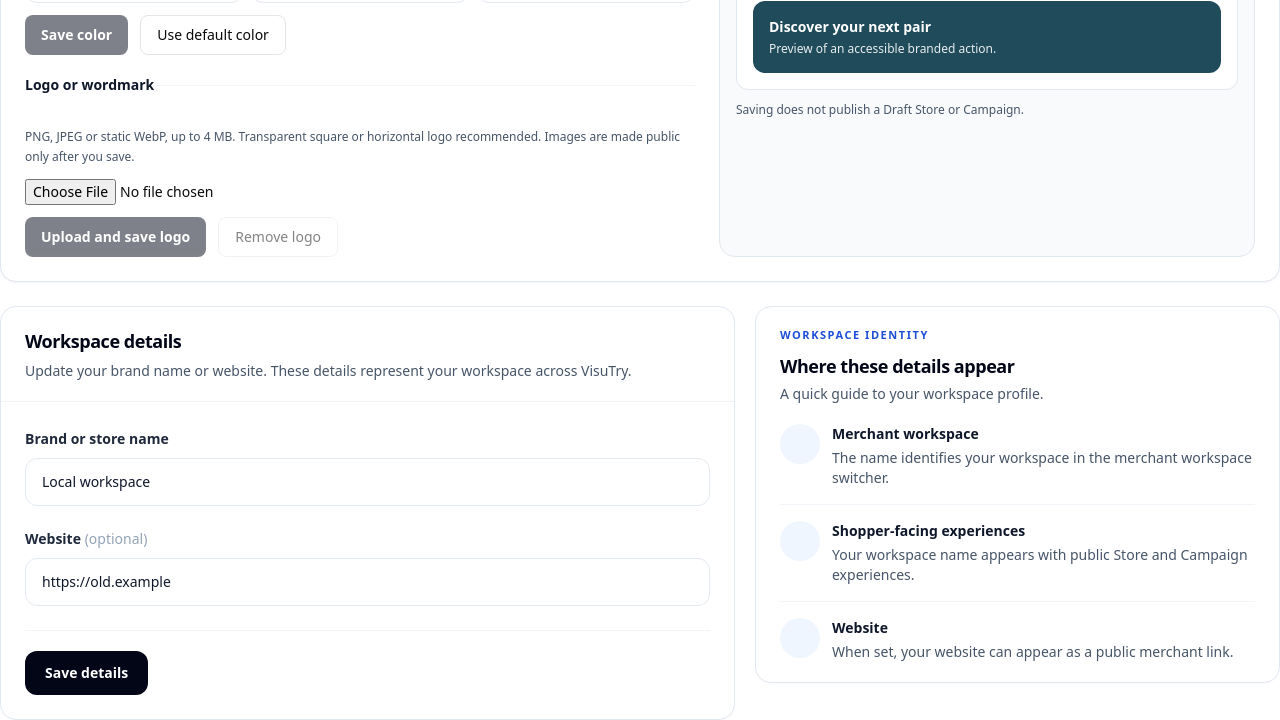
Scenario: MerchantWorkspaceSettings › sends a populated website URL unchanged
(page scrolled)
Replace the text in the field labelled "Website (optional)" with "https://new.example/path": [368, 582] box left=25, top=558, right=710, bottom=606
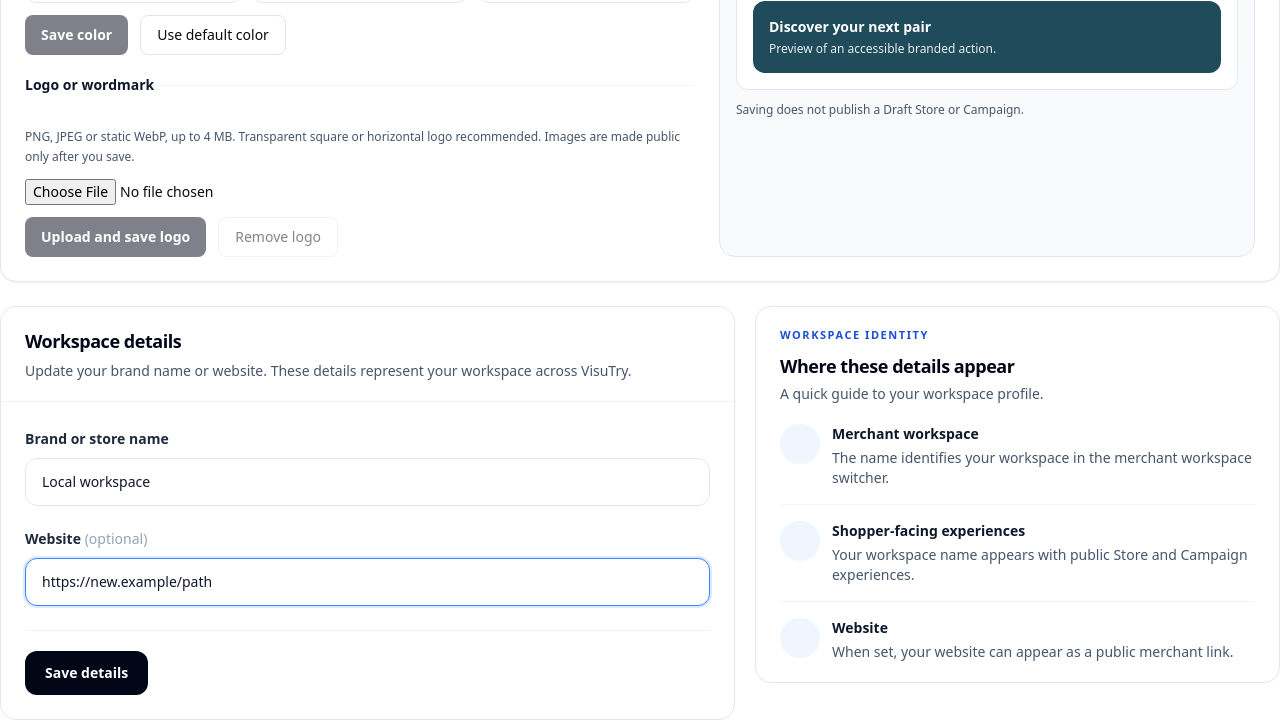
Click the button "Save details": [87, 673] box left=25, top=651, right=148, bottom=695
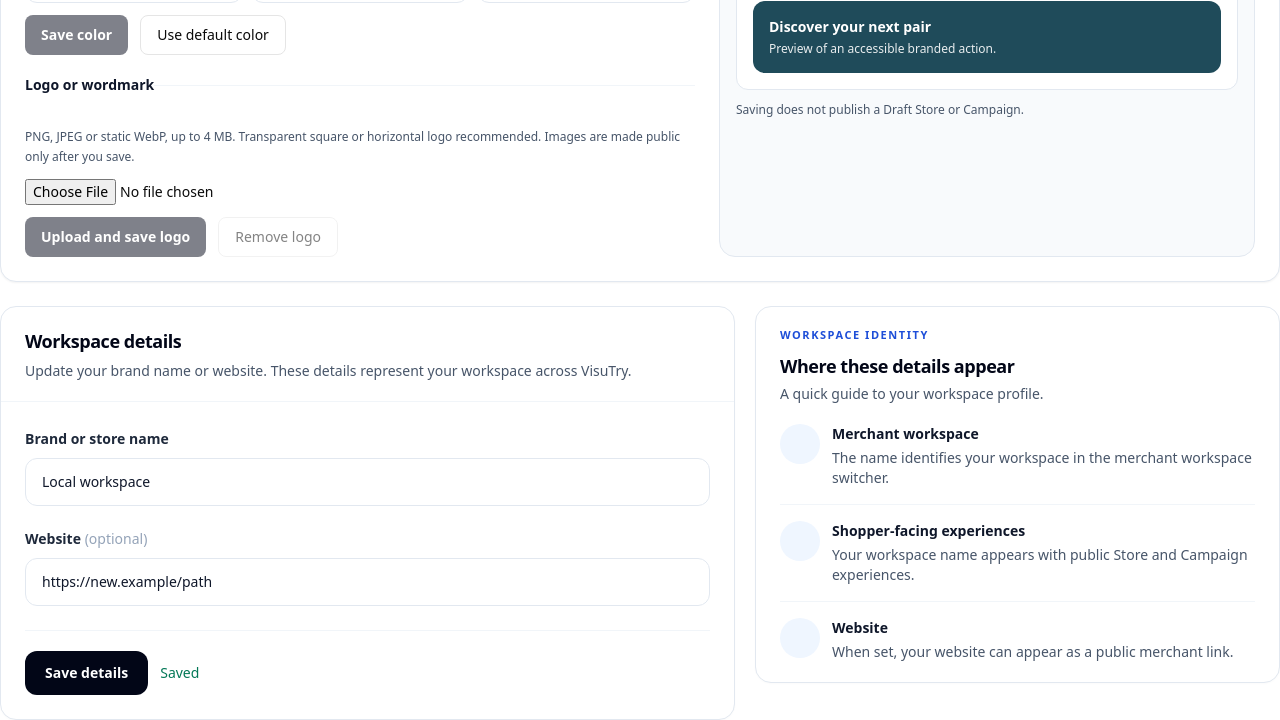
Expected: the message "Saved" is shown, left=160, top=663, right=199, bottom=683
